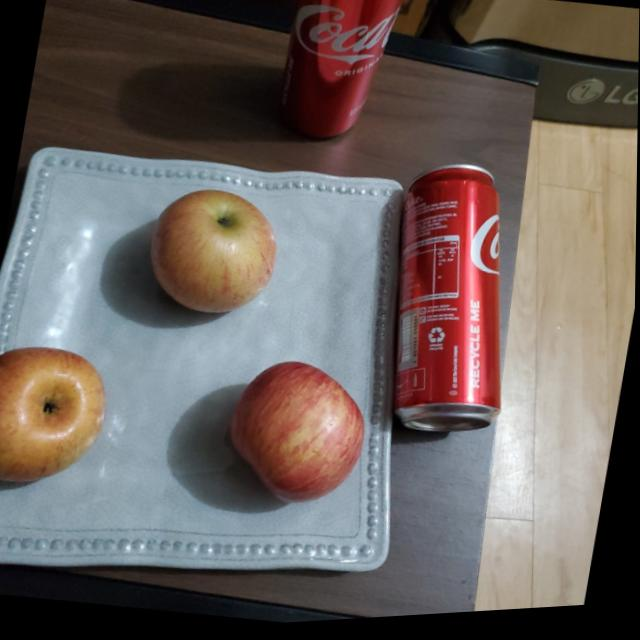apple: (219, 354, 375, 518), (140, 179, 288, 330), (0, 334, 112, 497)
coke: (367, 156, 540, 449), (274, 0, 408, 151)
